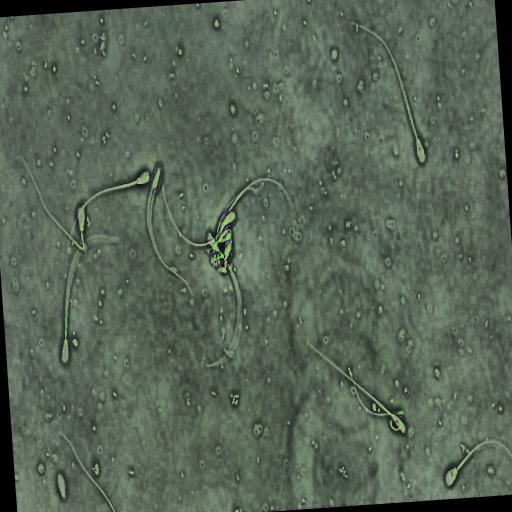folded-tail: (17, 153, 84, 250)
loose-head: (55, 470, 68, 503)
loose-tail: (55, 426, 119, 512)
normal: (339, 12, 431, 174), (299, 333, 410, 439), (57, 231, 122, 371), (61, 165, 153, 258), (10, 148, 88, 254), (160, 176, 238, 251), (441, 433, 512, 494)
